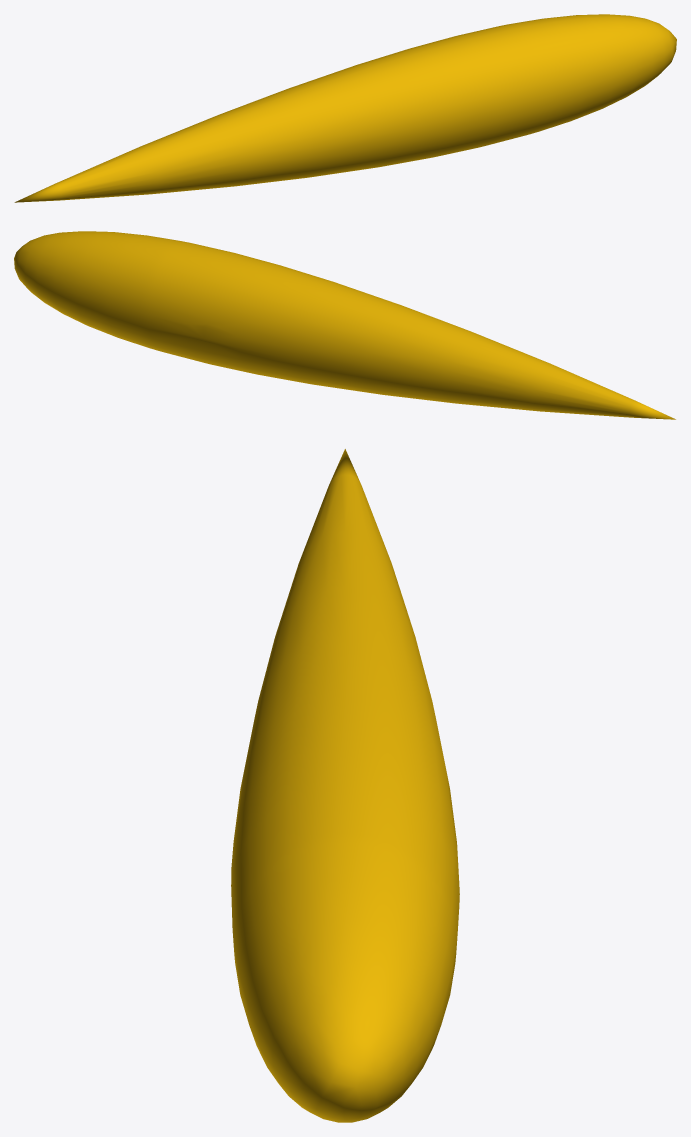
Rendered from ballast.dae.
The picture shows the model from 3 angles, top to bottom: view 1: azimuth 30°, elevation 25°; view 2: azimuth 150°, elevation 25°; view 3: azimuth 270°, elevation 25°; orthographic projection. The views are drawn at different scales.
Parts seen in each view (by area): view 1: ballast_convex_hull; view 2: ballast_convex_hull; view 3: ballast_convex_hull.
Boxes of the visible parts, x1=… form: ballast_convex_hull: x1=14, y1=14, x2=676, y2=202; ballast_convex_hull: x1=14, y1=231, x2=675, y2=419; ballast_convex_hull: x1=231, y1=449, x2=459, y2=1122.
Bounding box in the file's own units: 0.3897 × 0.0585 × 0.0583.
